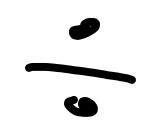div: (25, 18, 136, 118)
